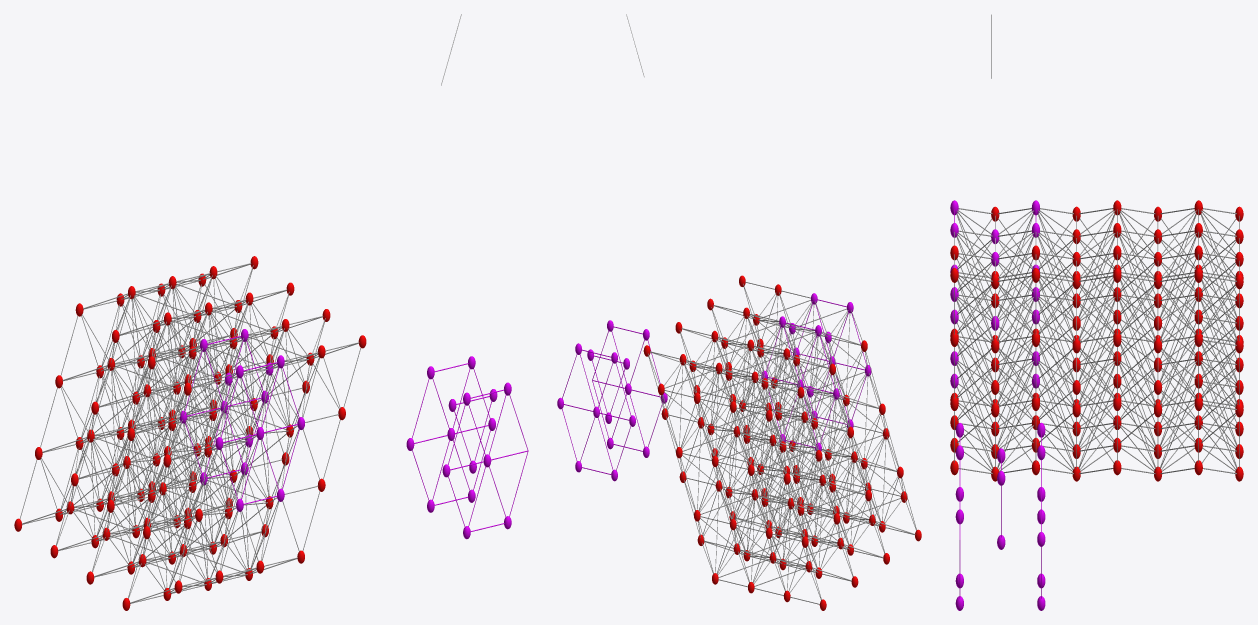
3 renders of one model, left to right at view 1: azimuth 30°, elevation 25°; view 2: azimuth 150°, elevation 25°; view 3: azimuth 270°, elevation 25°, orthographic. The views are drawn at different scales.
Visible parts, largest first — view 1: world; view 2: world; view 3: world.
Boxes of the visible parts, x1=… form: world: x1=14, y1=256, x2=366, y2=610; world: x1=643, y1=275, x2=921, y2=610; world: x1=950, y1=200, x2=1243, y2=481.
Bounding box in the file's own units: 24.9 × 31.28 × 14.25.
